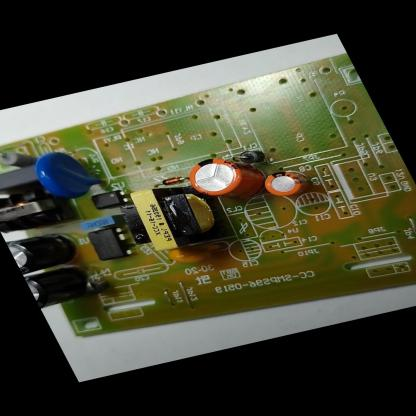Cap1: (179, 150, 272, 204)
Cap2: (257, 167, 312, 201)
Cap3: (6, 228, 82, 275)
Cap4: (24, 262, 101, 310)
MOSFET: (82, 224, 133, 265)
Mov: (26, 143, 110, 204)
Resistor: (0, 146, 33, 171)
Transformer: (110, 175, 236, 260), (0, 183, 72, 235)
